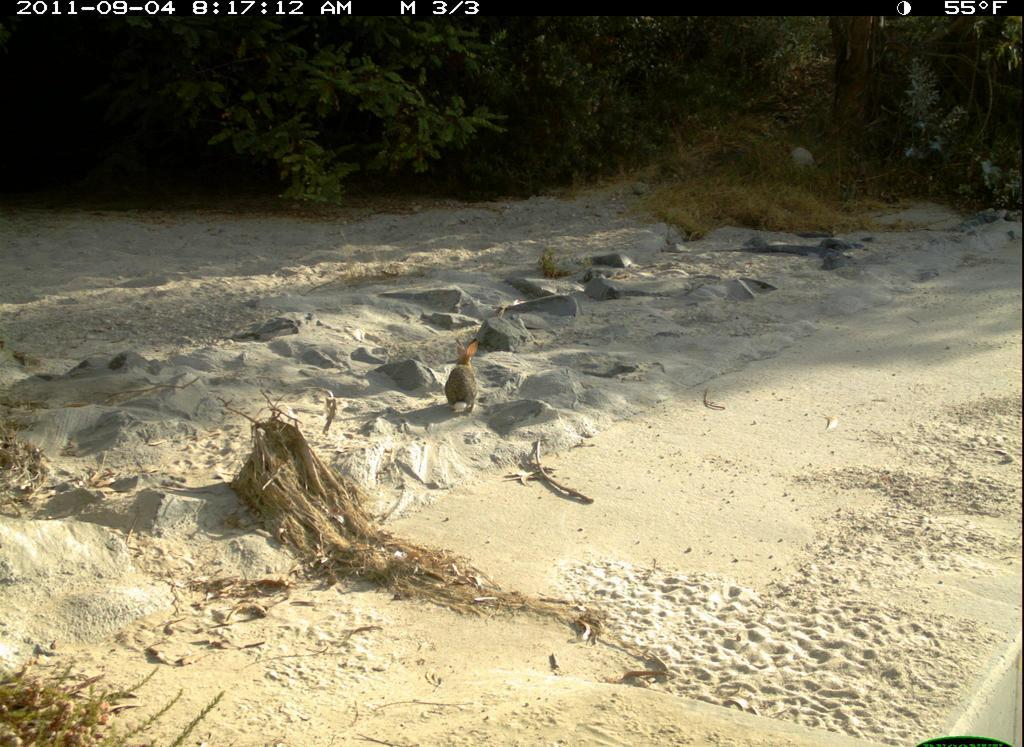rabbit: (445, 339, 482, 415)
